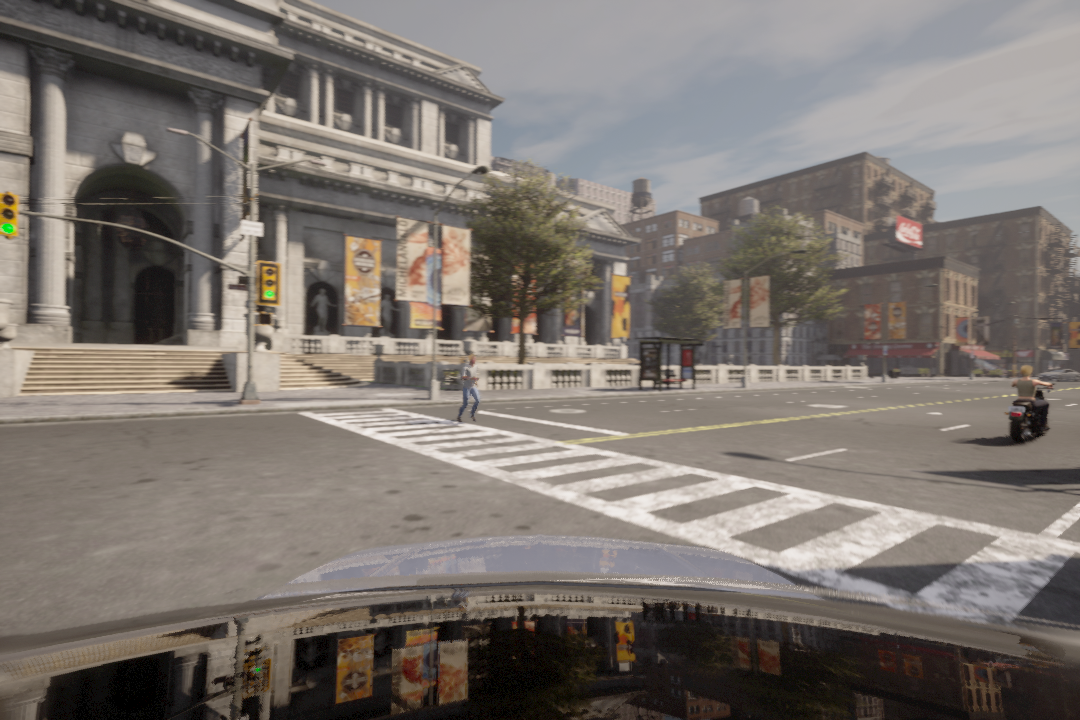TrafficLight: (255, 256, 282, 304), (1, 191, 16, 239)
walkside: (301, 408, 1080, 644)
